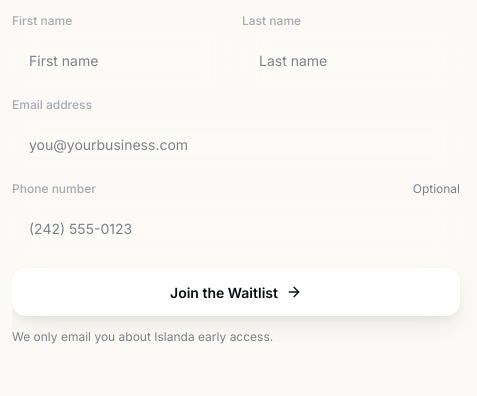
Test case: WaitlistForm submission states › shows no success state for a failed submission
Type "Ada" into the field labelled "First name" at (121, 60), box x1=12 y1=36 x2=230 y2=84
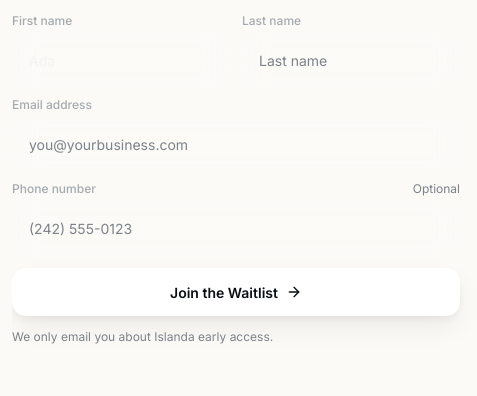
Type "Lovelace" into the field labelled "Last name" at (351, 60), box x1=242 y1=36 x2=460 y2=84
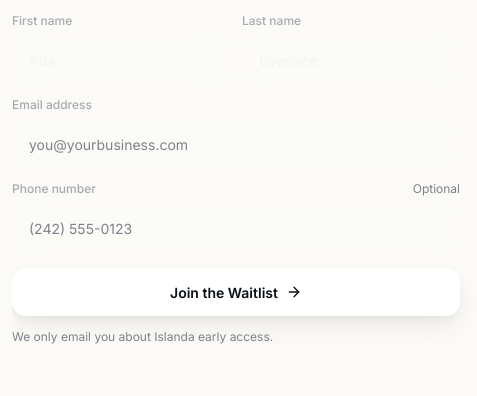
Type "ada@example.com" into the field labelled "Email address" at (236, 144), box x1=12 y1=120 x2=460 y2=168
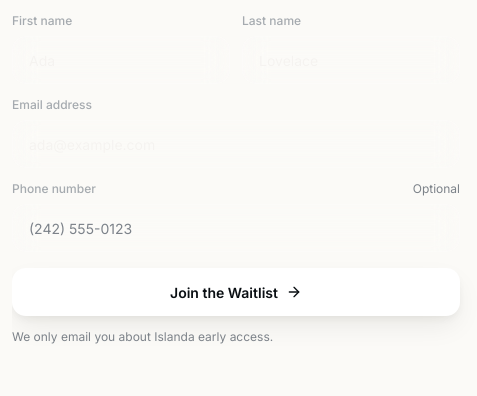
Submit the form "Join the Waitlist"
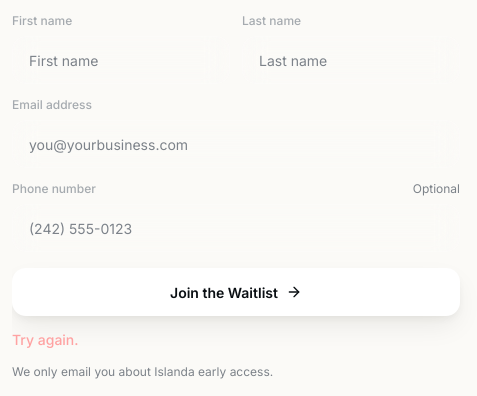
Now the text "Try again." is shown, box x1=12 y1=331 x2=78 y2=348
